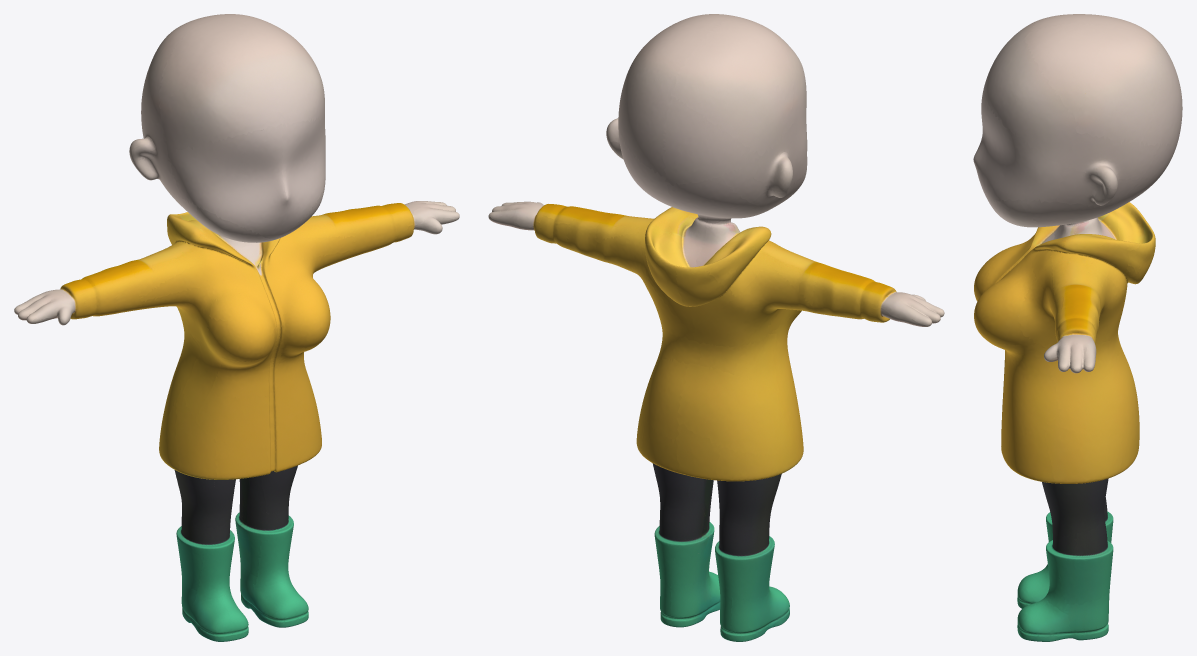
File: baked_outfit_raincoat.glb
The picture shows the model from 3 angles, left to right: view 1: azimuth 30°, elevation 25°; view 2: azimuth 150°, elevation 25°; view 3: azimuth 270°, elevation 25°; orthographic projection. The views are drawn at different scales.
Size of the model in its own units: 1.49 by 1.9 by 0.6075.
Materials: 1 (1 with a texture image).
